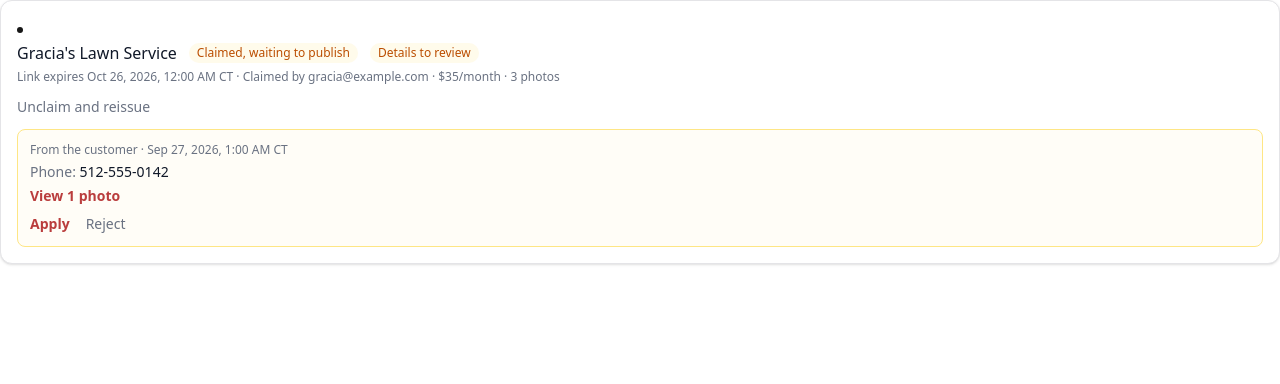
Test: admin outreach row: Reject asks first when photos go with it (Sable 1:34 AM, Vera r3 NEW-1) › one photo uses the singular line
The width and height of the screenshot is (1280, 384).
Click the button "Reject".
click(106, 224)  # box [86, 214, 126, 234]
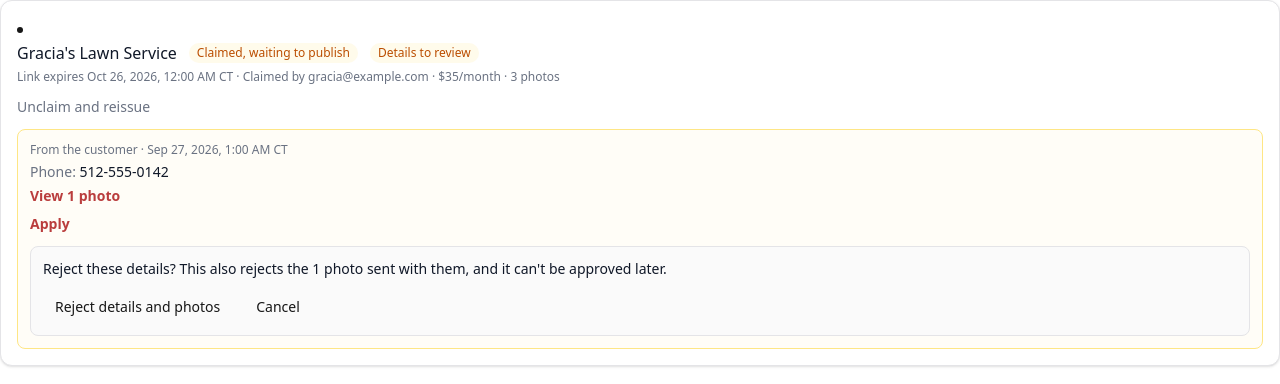
Now the element with test id "reject-confirm" shows "Reject these details? This also rejects the 1 photo sent with them, and it can't be approved later.", box [43, 259, 667, 278]
